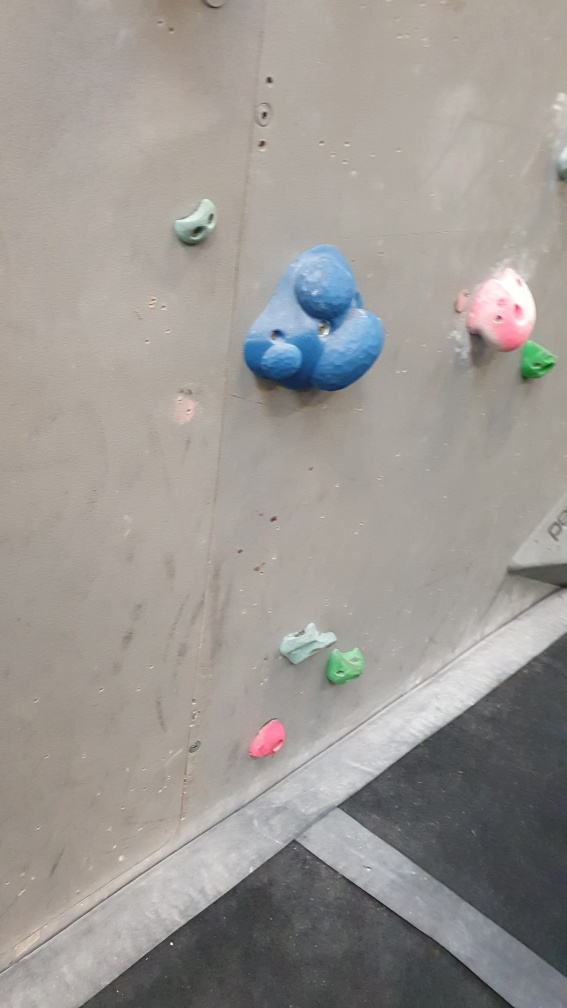Sloper: (237, 240, 386, 399)
